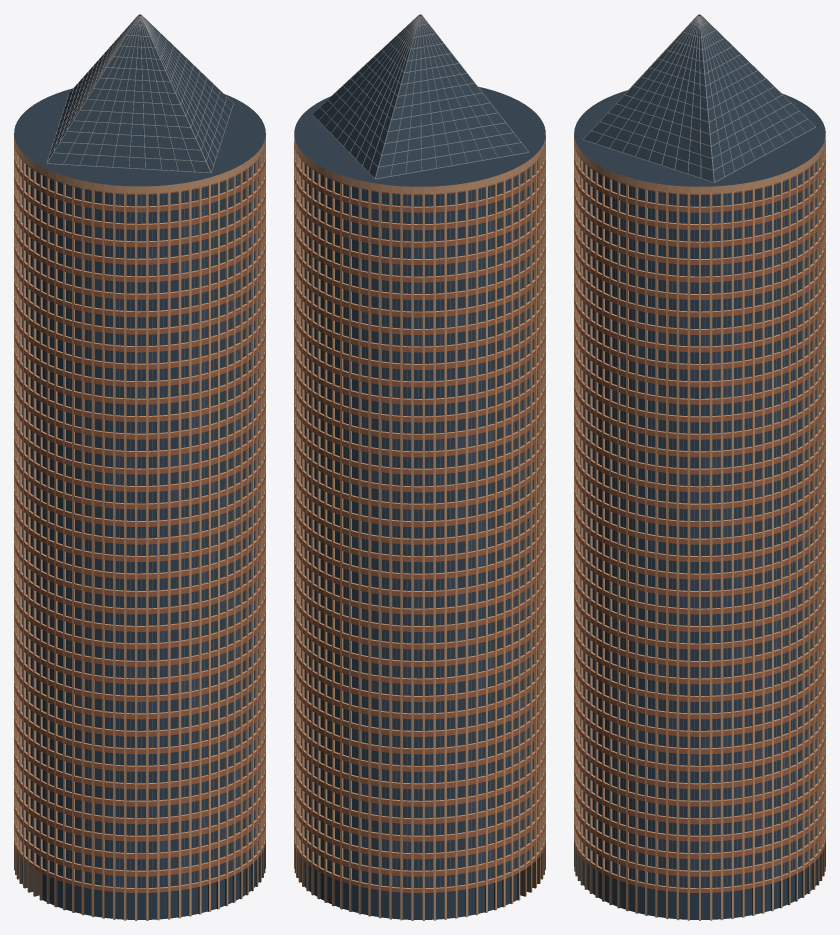
The model's file is tour-part-dieu-near.glb.
3 views of the same model, side by side, from view 1: azimuth 30°, elevation 25°; view 2: azimuth 150°, elevation 25°; view 3: azimuth 270°, elevation 25° (orthographic).
Parts seen in each view (by area): view 1: tour-part-dieu-0-rib, tour-part-dieu-0-glass, tour-part-dieu-0-terracotta, tour-part-dieu-0-roof, tour-part-dieu-0-metal, tour-part-dieu-0-glow, tour-part-dieu-0-bronze; view 2: tour-part-dieu-0-rib, tour-part-dieu-0-glass, tour-part-dieu-0-terracotta, tour-part-dieu-0-roof, tour-part-dieu-0-metal, tour-part-dieu-0-glow, tour-part-dieu-0-bronze; view 3: tour-part-dieu-0-rib, tour-part-dieu-0-glass, tour-part-dieu-0-terracotta, tour-part-dieu-0-roof, tour-part-dieu-0-metal, tour-part-dieu-0-glow, tour-part-dieu-0-bronze.
Boxes of the visible parts, x1,y1,x2,y2 form: tour-part-dieu-0-rib: [14, 134, 265, 920]; tour-part-dieu-0-glass: [22, 159, 258, 919]; tour-part-dieu-0-terracotta: [14, 142, 265, 892]; tour-part-dieu-0-roof: [14, 14, 265, 186]; tour-part-dieu-0-metal: [32, 14, 237, 887]; tour-part-dieu-0-glow: [22, 167, 258, 887]; tour-part-dieu-0-bronze: [14, 841, 265, 919]; tour-part-dieu-0-rib: [294, 135, 545, 920]; tour-part-dieu-0-glass: [301, 161, 537, 919]; tour-part-dieu-0-terracotta: [294, 145, 545, 892]; tour-part-dieu-0-roof: [294, 14, 545, 186]; tour-part-dieu-0-metal: [310, 15, 532, 887]; tour-part-dieu-0-glow: [301, 160, 537, 888]; tour-part-dieu-0-bronze: [294, 843, 545, 919]; tour-part-dieu-0-rib: [574, 134, 825, 920]; tour-part-dieu-0-glass: [580, 159, 819, 919]; tour-part-dieu-0-terracotta: [574, 141, 825, 892]; tour-part-dieu-0-roof: [574, 14, 825, 186]; tour-part-dieu-0-metal: [582, 15, 815, 887]; tour-part-dieu-0-glow: [580, 159, 819, 882]; tour-part-dieu-0-bronze: [574, 840, 825, 919].
Size of the model in its own units: 44.08 by 165 by 44.1.
